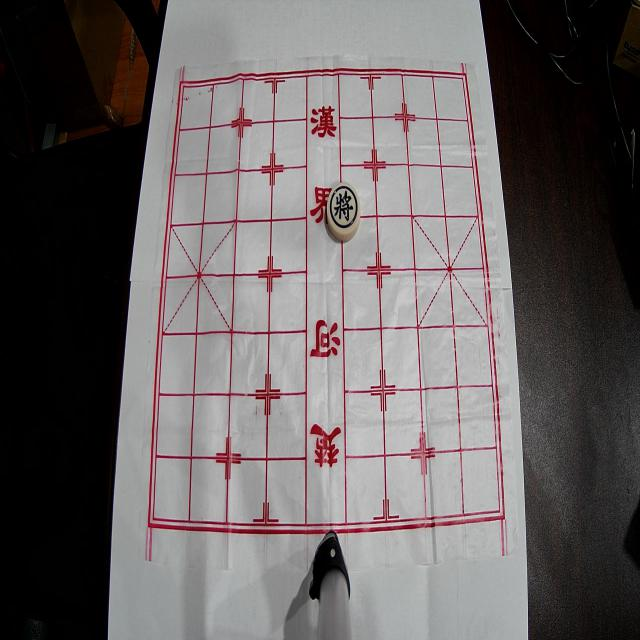black-general: (327, 182, 361, 241)
